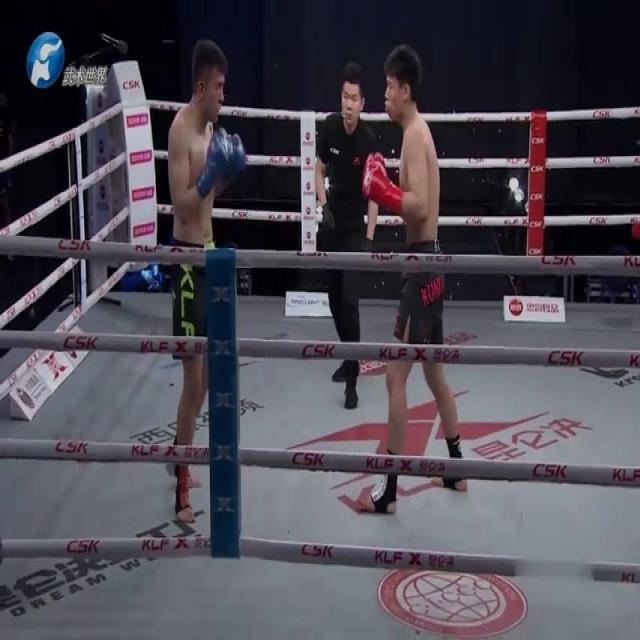fight: (168, 34, 466, 524)
